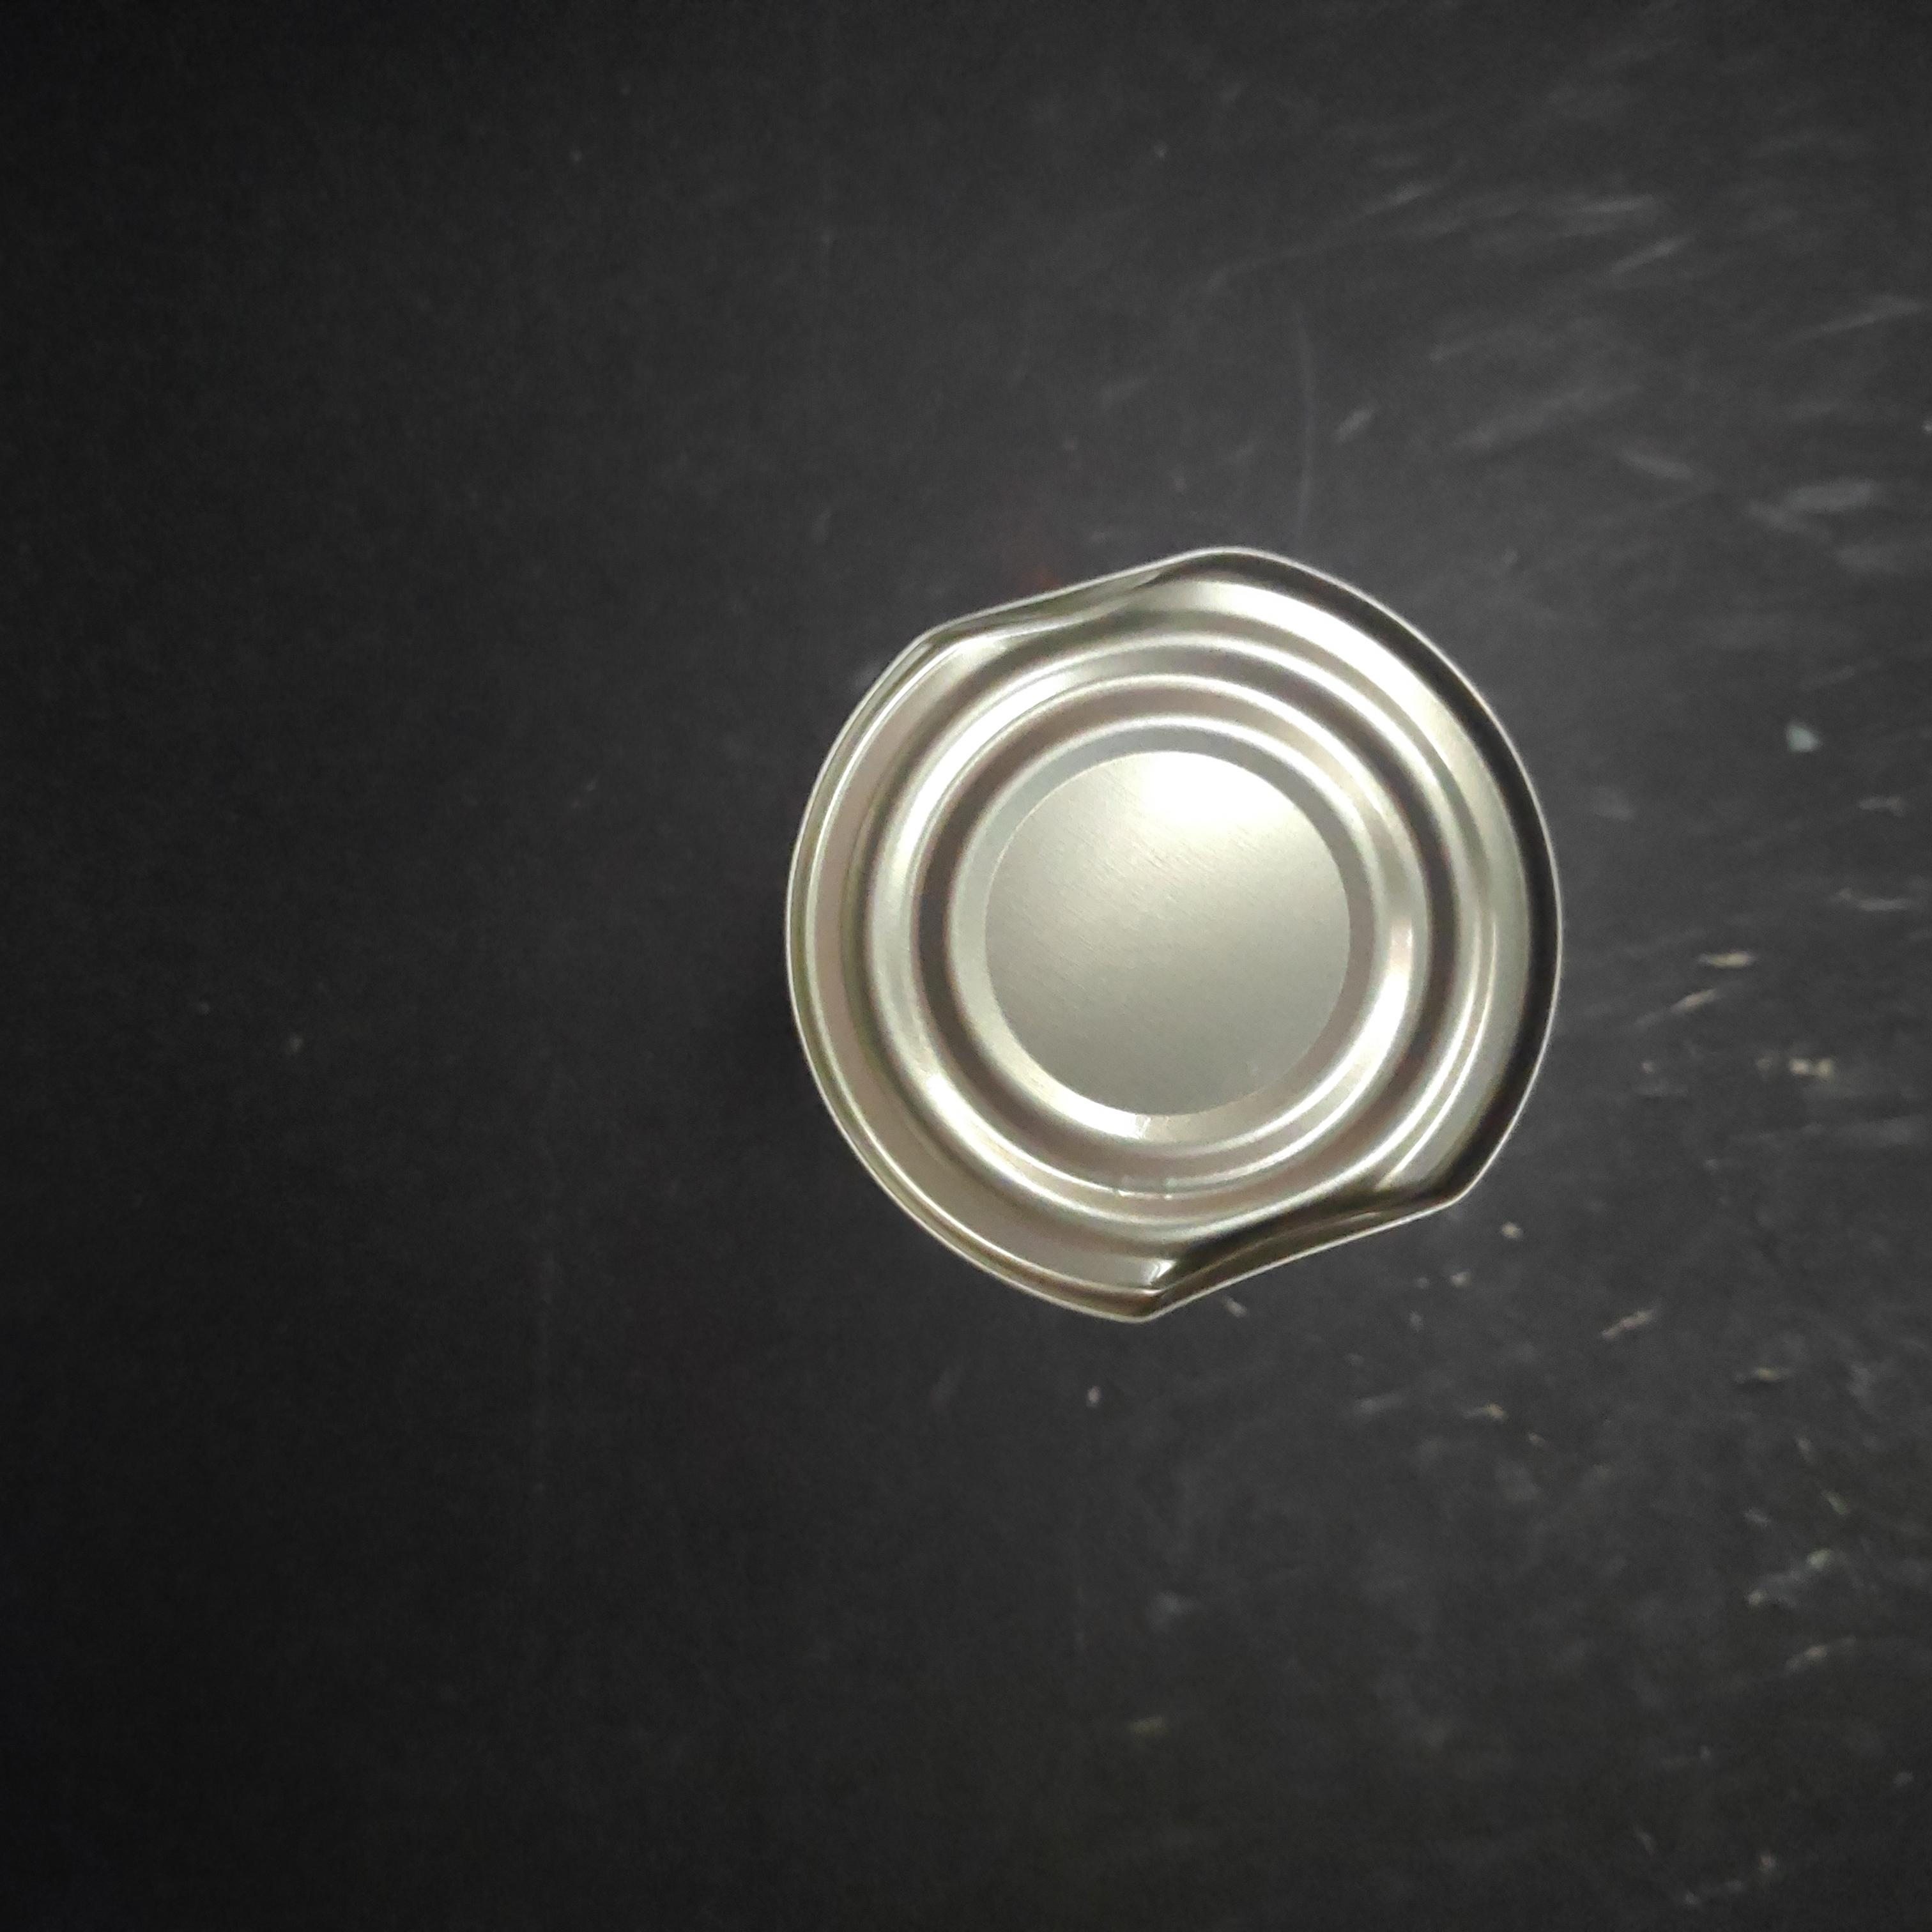Minor Defect: (771, 527, 1566, 1339)
